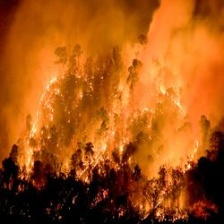fire: (18, 45, 201, 189)
